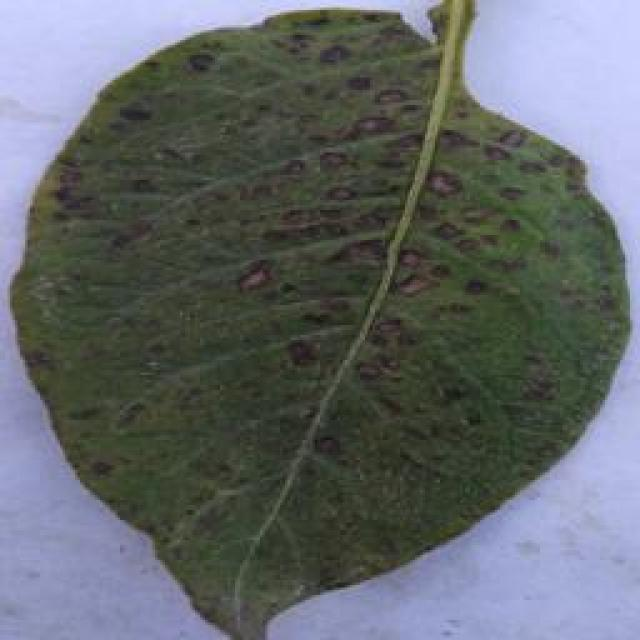Potato_Early_Blight: (10, 11, 634, 636)
